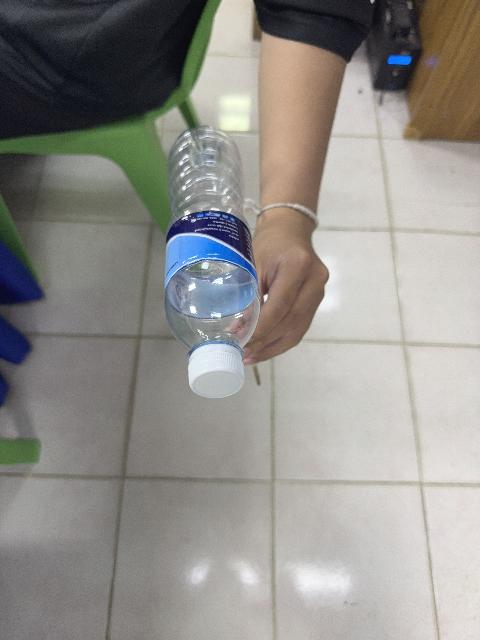bottle: (164, 127, 259, 397)
